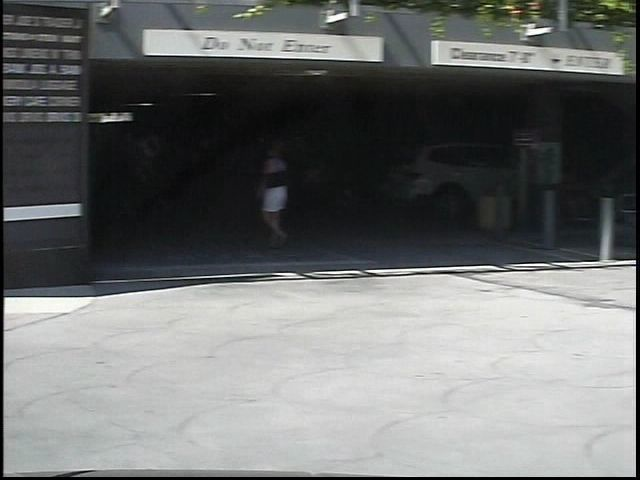person: (237, 137, 287, 258)
